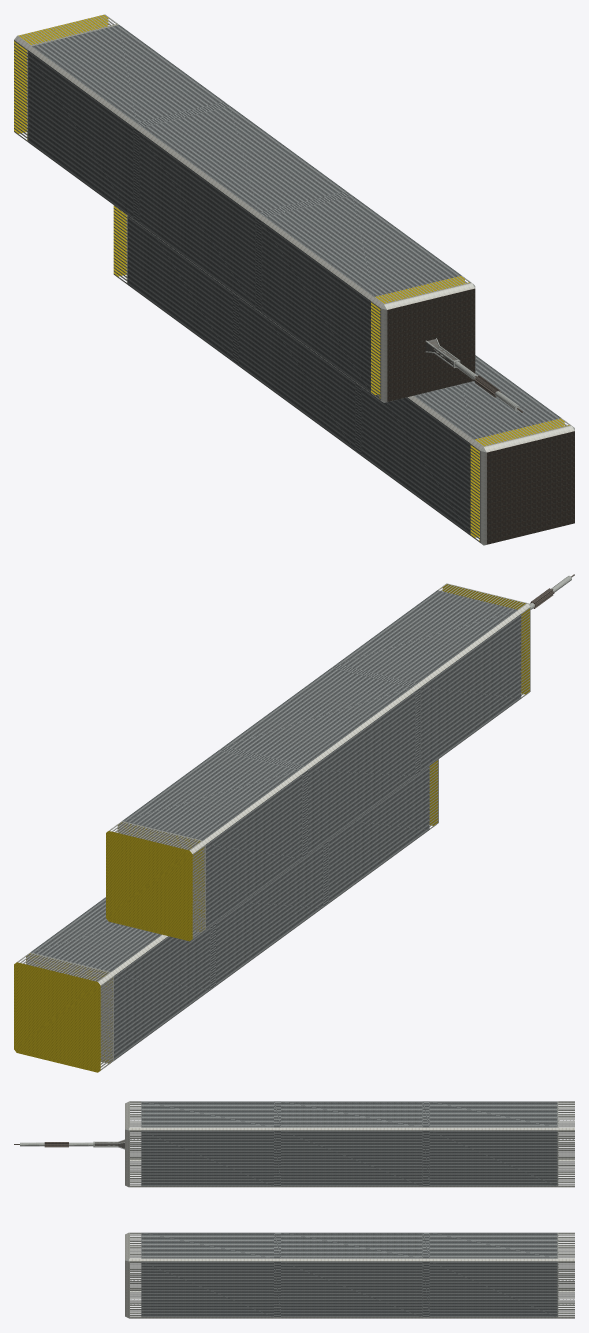
File: twintower.obj
The picture shows the model from 3 angles, top to bottom: view 1: azimuth 30°, elevation 25°; view 2: azimuth 150°, elevation 25°; view 3: azimuth 270°, elevation 25°; orthographic projection. The views are drawn at different scales.
Parts seen in each view (by area): view 1: 556, 554, 558, 389, 391, 90, 546, 393, 560, 561, 407, 555 (+2 smaller); view 2: 556, 554, 558, 393, 395, 560, 391, 389, 561, 559, 555, 557 (+1 smaller); view 3: 391, 556, 389, 554, 393, 558, 395, 560, 407, 561, 392, 557 (+2 smaller).
Part boxes in pixels (x1,y1,x2,y2): 556: [139, 106, 346, 308]; 554: [261, 195, 464, 395]; 558: [28, 25, 224, 219]; 389: [361, 355, 564, 538]; 391: [239, 297, 356, 452]; 90: [487, 431, 574, 544]; 546: [387, 288, 475, 401]; 393: [128, 216, 232, 361]; 560: [14, 14, 117, 141]; 561: [371, 275, 470, 399]; 407: [470, 418, 569, 542]; 555: [255, 191, 352, 313]; 556: [224, 668, 415, 855]; 554: [337, 590, 521, 773]; 558: [122, 750, 302, 930]; 393: [30, 897, 210, 1060]; 395: [14, 953, 112, 1072]; 560: [106, 822, 204, 941]; 391: [216, 844, 323, 985]; 389: [328, 766, 429, 903]; 561: [438, 584, 529, 698]; 559: [117, 821, 205, 931]; 555: [331, 664, 420, 775]; 557: [219, 746, 307, 858]; 391: [281, 1232, 422, 1318]; 556: [281, 1101, 422, 1187]; 389: [141, 1232, 273, 1318]; 554: [141, 1101, 273, 1187]; 393: [429, 1232, 557, 1318]; 558: [429, 1101, 557, 1187]; 395: [559, 1232, 574, 1318]; 560: [559, 1101, 574, 1187]; 407: [130, 1232, 141, 1318]; 561: [130, 1101, 141, 1187]; 392: [422, 1232, 429, 1318]; 557: [422, 1101, 429, 1187].
Bounding box in the file's own units: 4978 × 6514 × 20526.
Materials: 9 (9 with a texture image).
